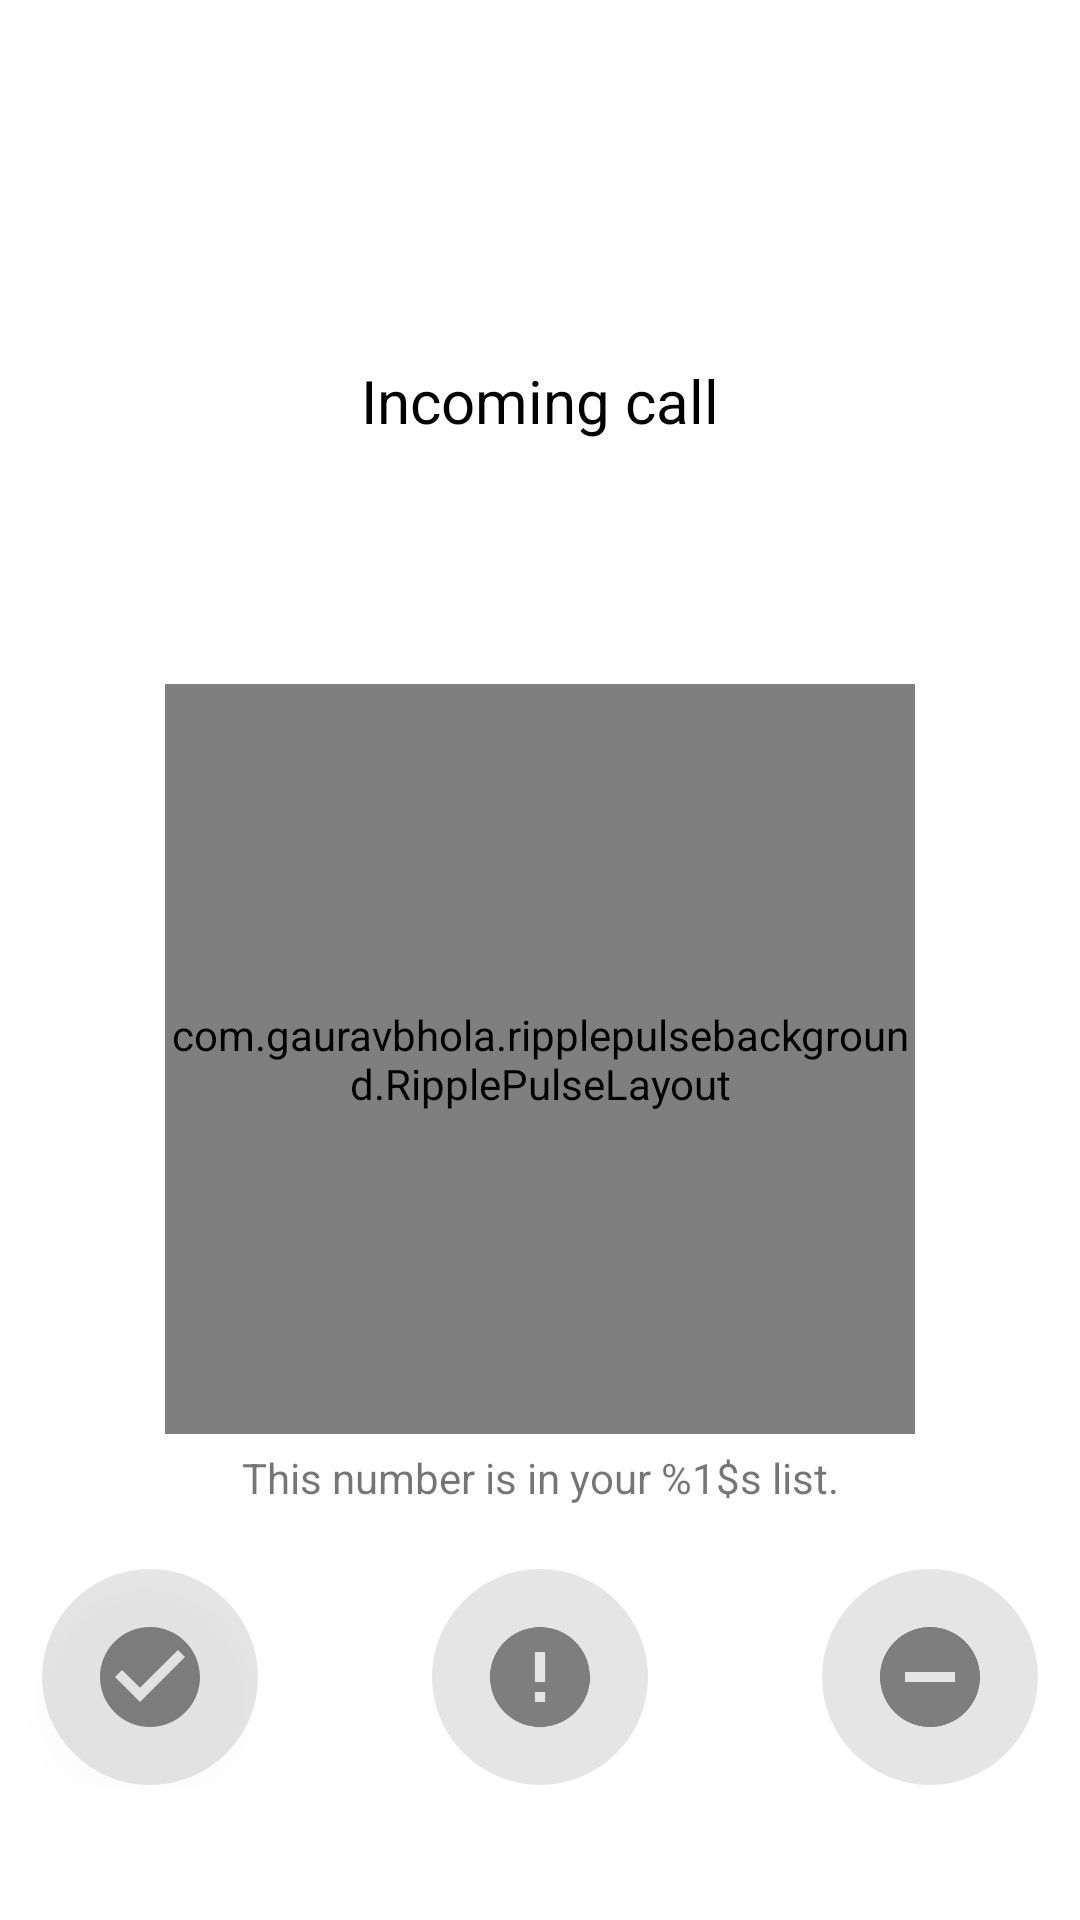

Icon click points for this 1080*1920 phone screenshot, format point (x, y):
blocked circle: point (930, 1677)
suspicious circle: point (540, 1677)
trusted circle: point (150, 1677)
